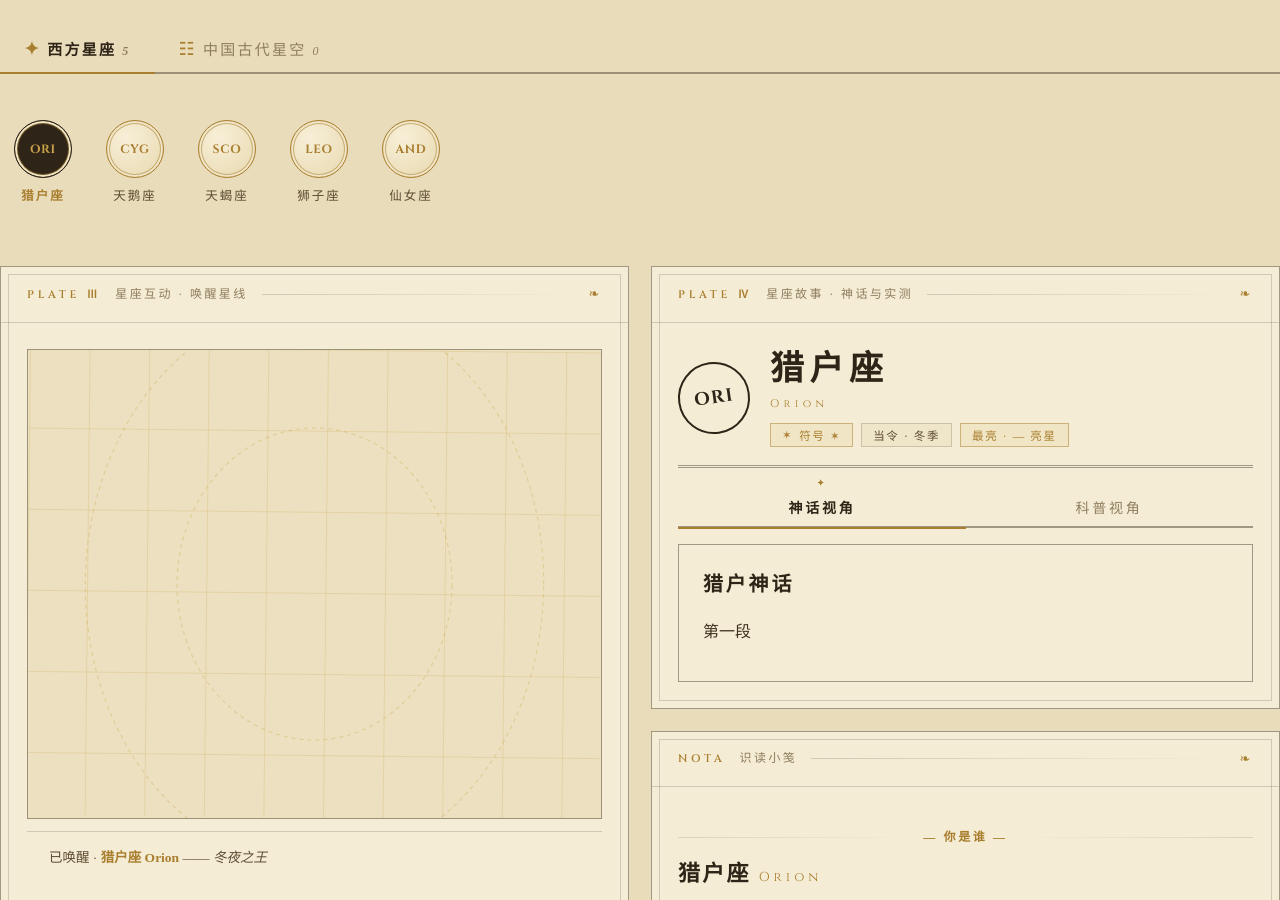
it: ConstellationView › 切换到 chinese 显示空状态
The width and height of the screenshot is (1280, 900).
Click the tab with test id "trad-tab-chinese".
click(250, 49)  # box [155,26,345,72]
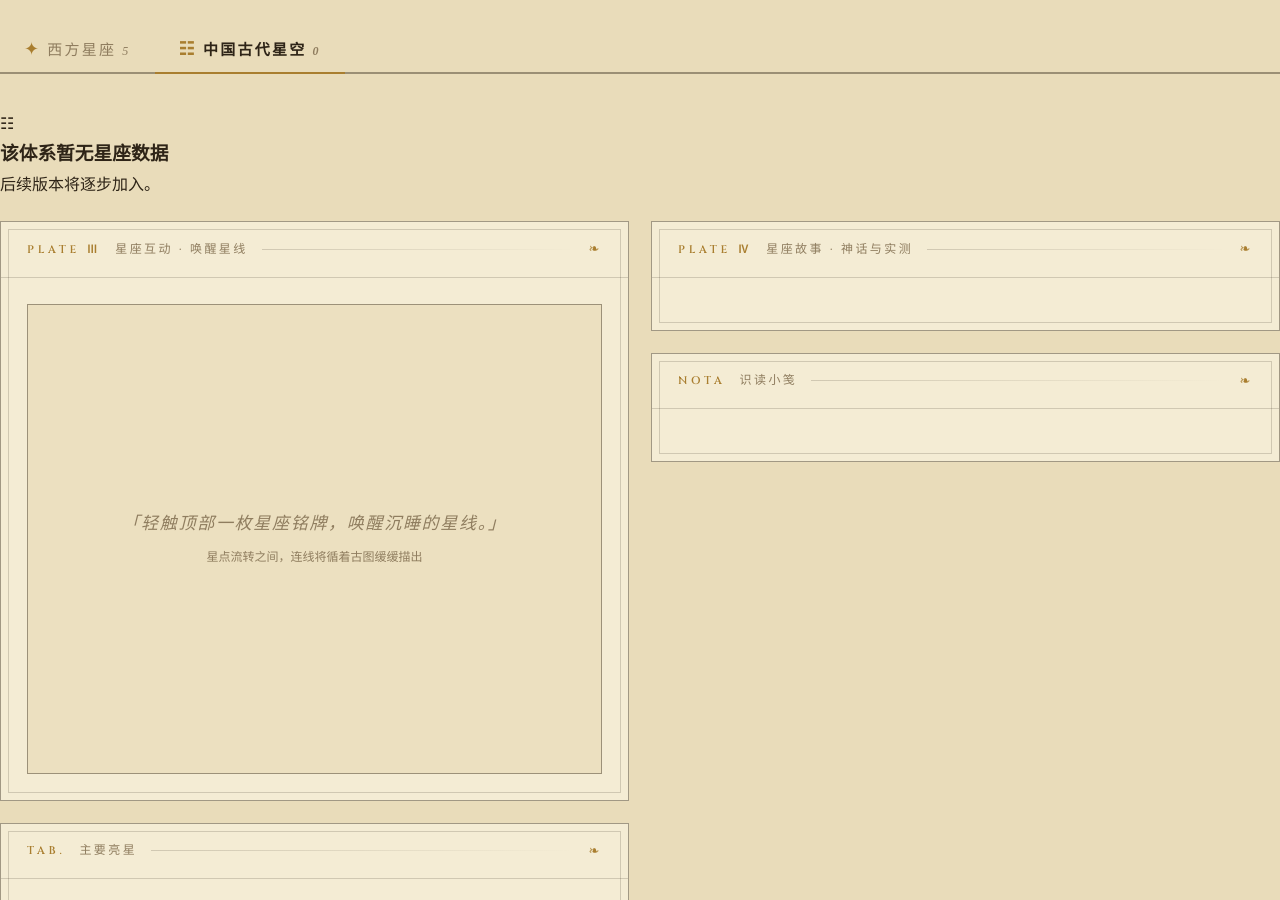
expect the element with test id "atlas-empty" is shown: met, box [0,114,168,195]
